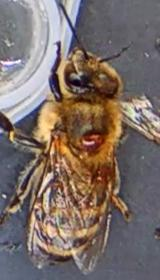varroa_mite: (74, 124, 109, 154), (90, 161, 114, 186)
